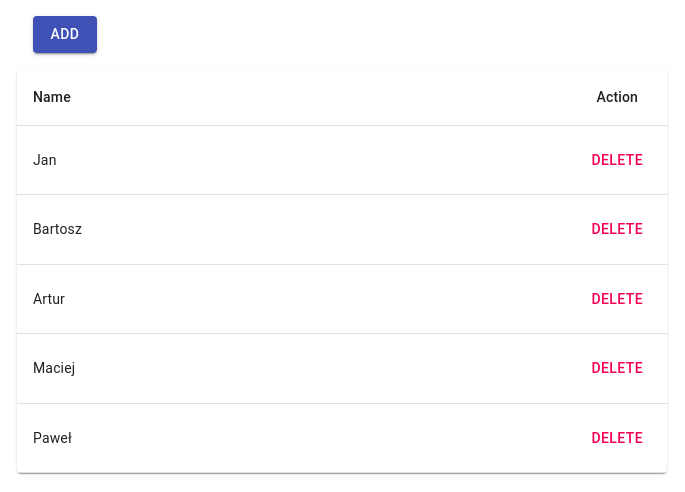
Scenario: Clicking Delete button deletes a tech
Click the button "Delete" in the row of "Jan".
click(617, 160)  # box top-left (584, 142), bottom-right (651, 178)
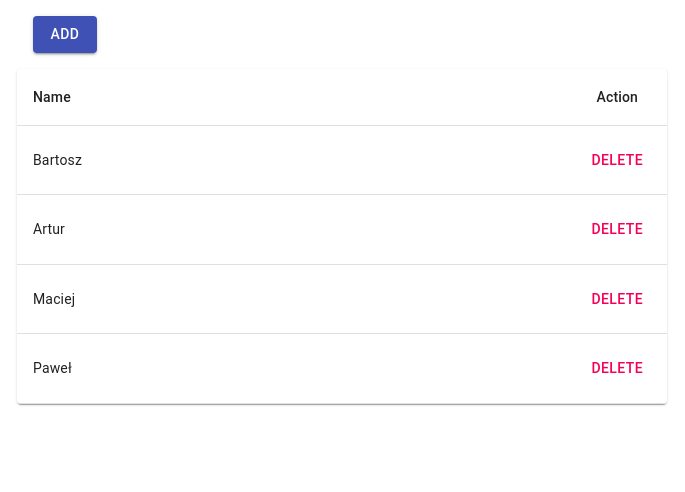
Now the number of rows is 5, box top-left (17, 68), bottom-right (667, 125); top-left (17, 125), bottom-right (667, 194); top-left (17, 194), bottom-right (667, 264); top-left (17, 264), bottom-right (667, 334); top-left (17, 334), bottom-right (667, 403)
